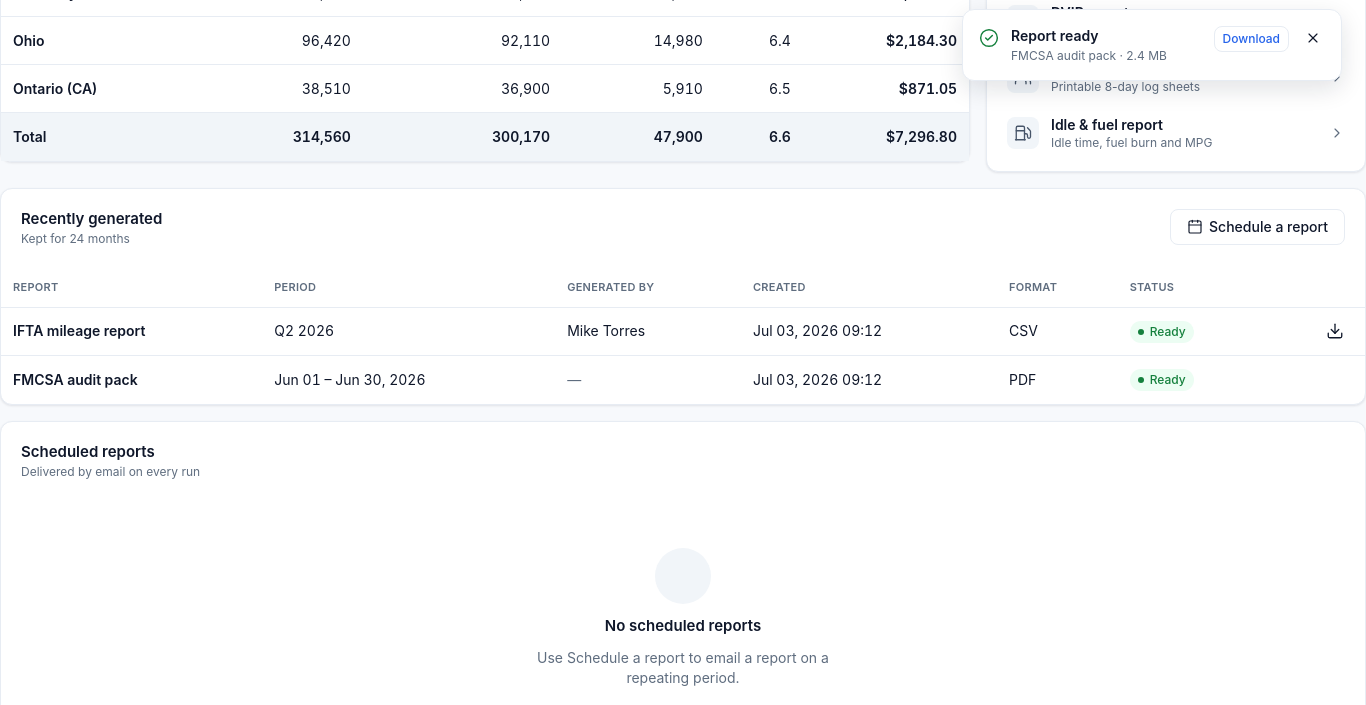
Scenario: W-12 Reports · IFTA › shows a refused download in place
(page scrolled)
Click the button named "Download IFTA mileage report" at (1335, 331), box [1317,313,1353,349]
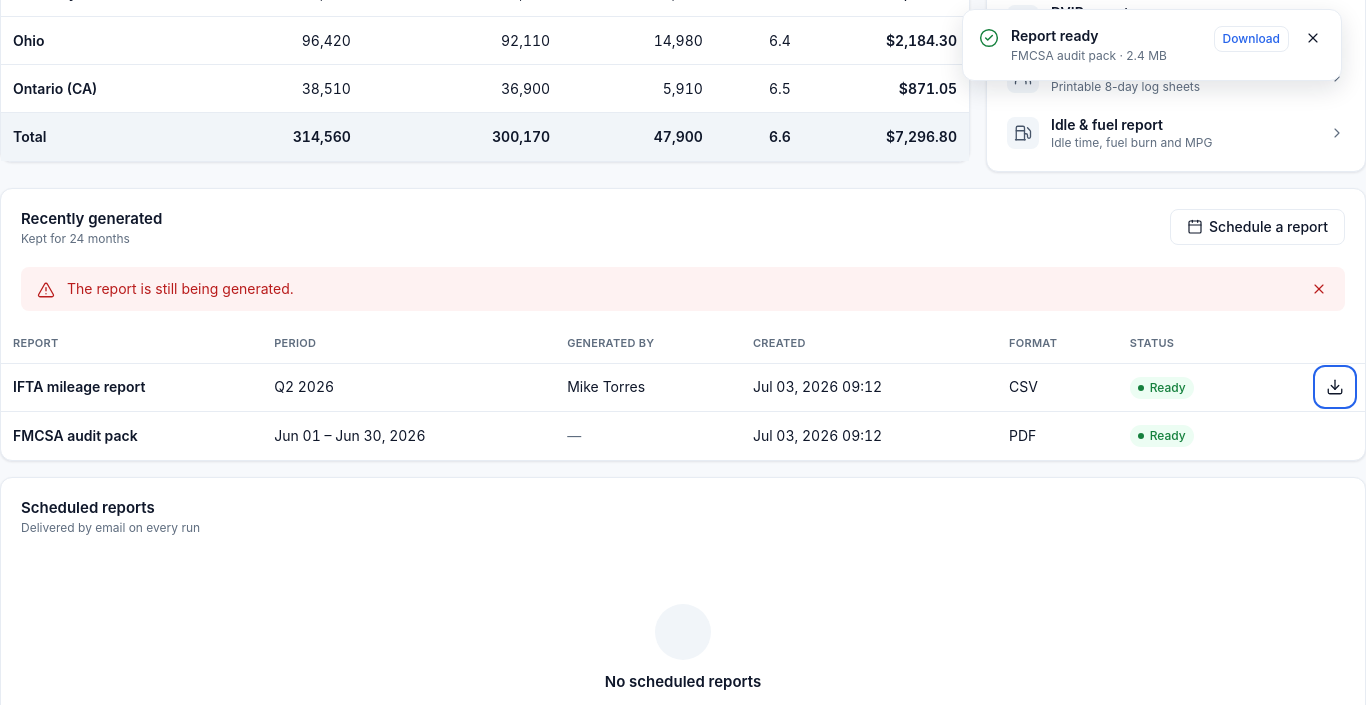
Click the button named "Dismiss" in the row of "The report is still being generated." at (1319, 289), box [1309,279,1329,299]
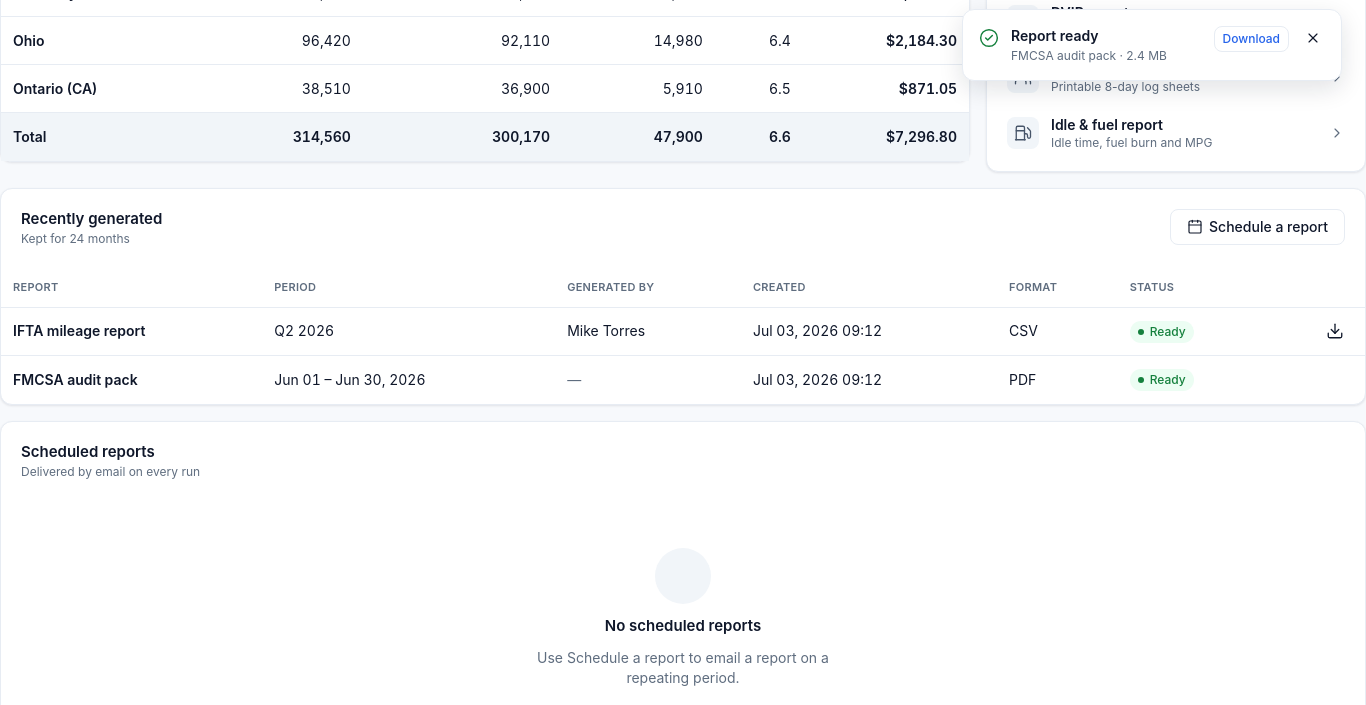
Result: the text "The report is still being generated." is gone
